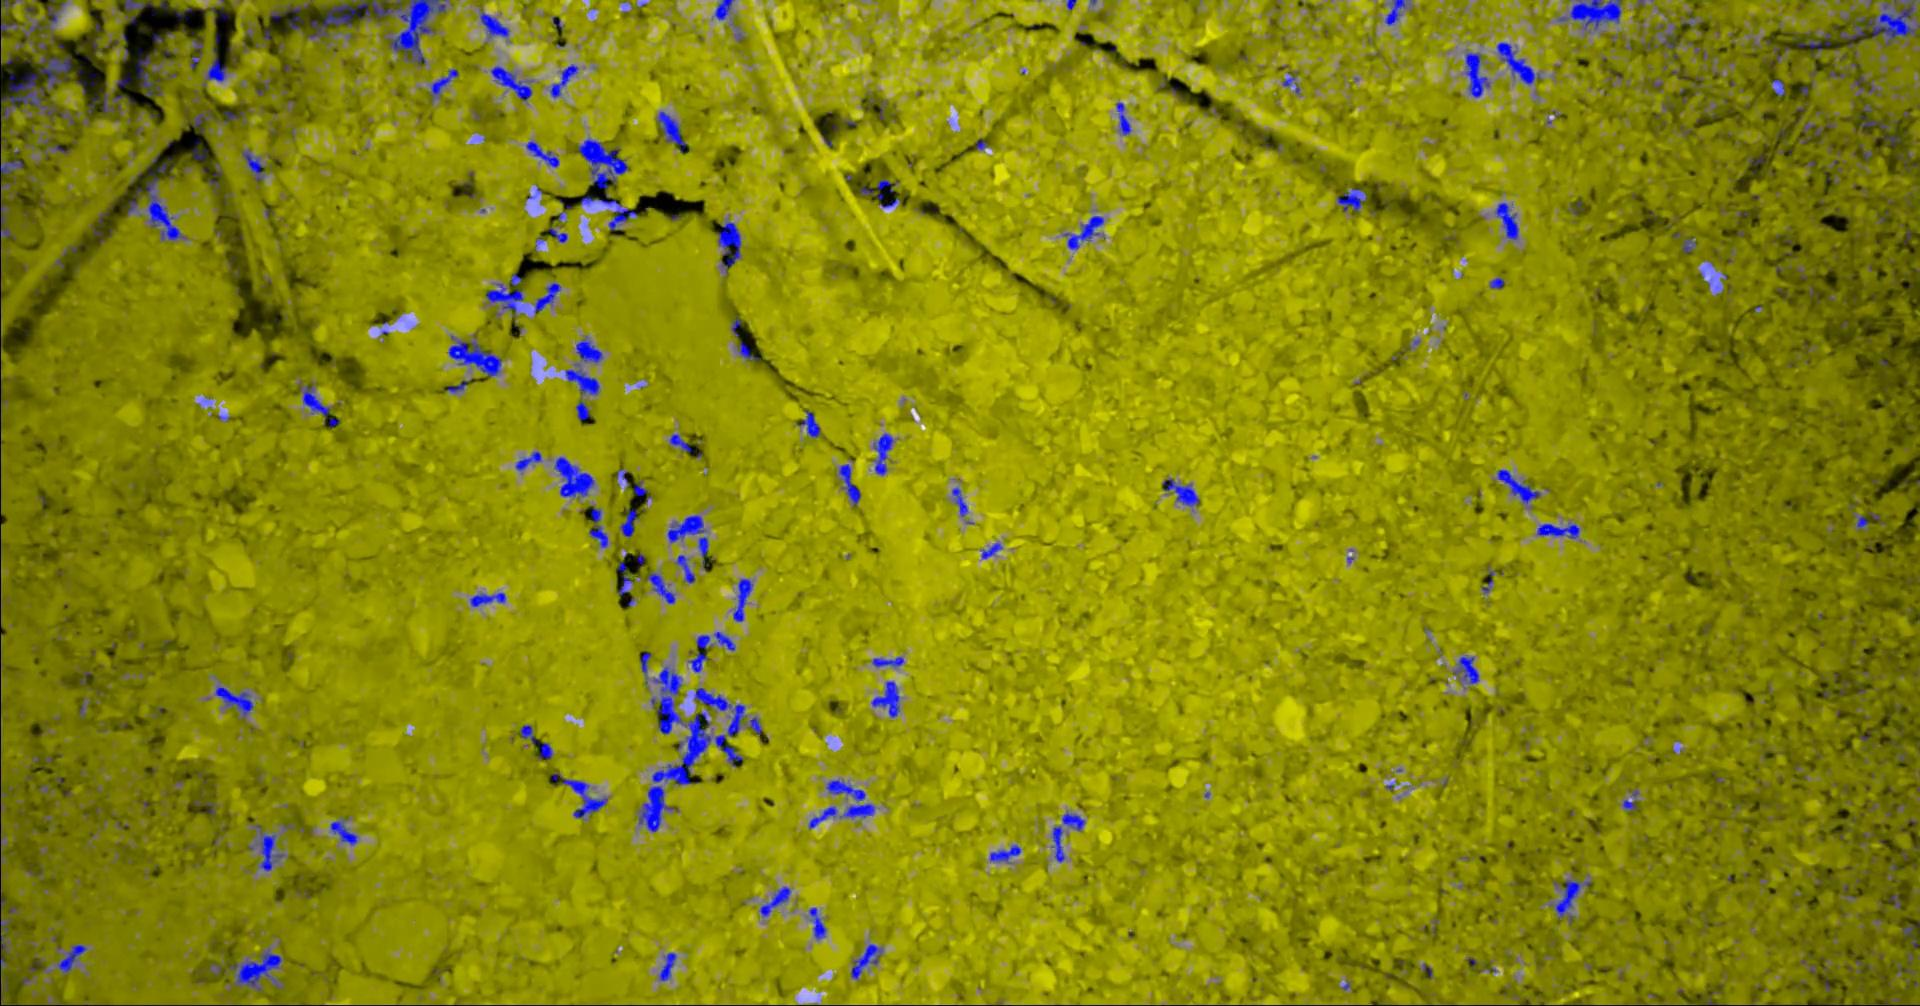ant: (808, 779, 874, 828), (0, 71, 56, 122), (551, 772, 607, 817), (667, 514, 709, 568), (229, 948, 281, 989), (650, 666, 682, 734), (448, 335, 502, 376), (579, 193, 637, 230), (1496, 42, 1540, 84), (554, 456, 594, 497), (1549, 879, 1590, 920), (0, 890, 15, 995), (1570, 0, 1622, 29), (490, 65, 531, 102), (1496, 469, 1539, 503), (1063, 215, 1103, 249), (1857, 116, 1900, 146), (255, 824, 283, 870), (485, 283, 523, 316), (135, 48, 160, 97), (657, 111, 686, 152), (717, 221, 740, 273), (850, 942, 883, 978), (858, 178, 898, 207), (519, 724, 551, 760), (215, 686, 251, 716), (37, 55, 71, 86), (1465, 52, 1490, 97), (268, 4, 307, 30), (565, 363, 599, 394), (298, 382, 329, 417), (870, 681, 899, 716), (1162, 478, 1199, 506), (28, 0, 58, 33), (88, 91, 124, 117), (550, 64, 578, 97), (838, 464, 860, 506), (759, 887, 790, 916), (430, 69, 458, 100), (646, 572, 674, 603), (524, 140, 557, 166), (731, 578, 752, 621), (688, 634, 711, 672), (0, 191, 15, 246), (872, 433, 893, 475), (1495, 202, 1517, 239), (57, 944, 86, 972), (588, 506, 607, 547), (479, 11, 509, 37), (535, 282, 560, 312), (1796, 30, 1831, 52), (241, 149, 264, 180), (1453, 655, 1478, 683), (206, 47, 226, 81), (1336, 188, 1366, 211), (1537, 522, 1578, 539), (575, 337, 602, 362), (796, 409, 819, 437), (330, 821, 357, 843), (0, 0, 17, 37), (1384, 0, 1408, 24), (0, 159, 23, 184), (676, 554, 695, 583), (989, 843, 1020, 861), (618, 508, 637, 536), (809, 907, 825, 939), (658, 951, 676, 981), (469, 592, 505, 606), (1115, 102, 1130, 135), (617, 561, 632, 594), (192, 109, 213, 132), (516, 451, 541, 470), (951, 486, 968, 516), (1051, 826, 1064, 862), (189, 37, 203, 69), (1062, 810, 1084, 829), (669, 434, 693, 452), (1901, 923, 1919, 948), (75, 72, 95, 93), (714, 631, 735, 650), (714, 0, 734, 19), (738, 342, 759, 359), (193, 800, 215, 818), (208, 166, 221, 194), (447, 379, 471, 392), (1622, 790, 1638, 810), (640, 652, 650, 683), (871, 655, 903, 666), (575, 398, 589, 420), (982, 542, 1002, 558), (1481, 570, 1495, 592), (549, 227, 568, 243), (123, 0, 150, 10), (1771, 77, 1785, 97), (1802, 121, 1821, 135), (1662, 33, 1677, 50), (1681, 238, 1697, 253), (190, 147, 207, 161), (749, 716, 761, 734), (632, 481, 646, 495), (1887, 893, 1900, 908), (1490, 277, 1503, 288), (1857, 514, 1868, 528)
